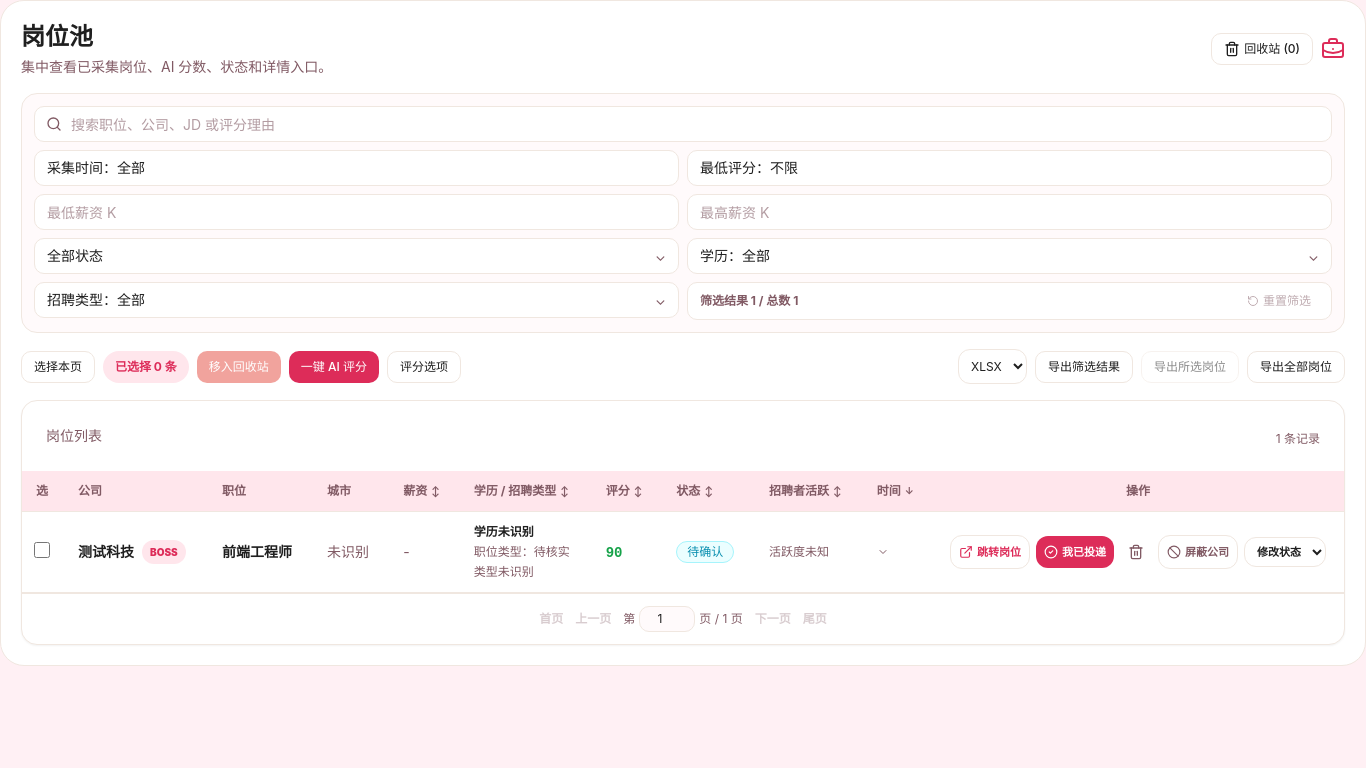
Test: 岗位列表屏蔽公司 › previews before confirmation and changes only the company list while preserving existing rules
Click the button with aria-label "屏蔽公司 测试科技" at (1198, 552), box [1158, 535, 1238, 569]
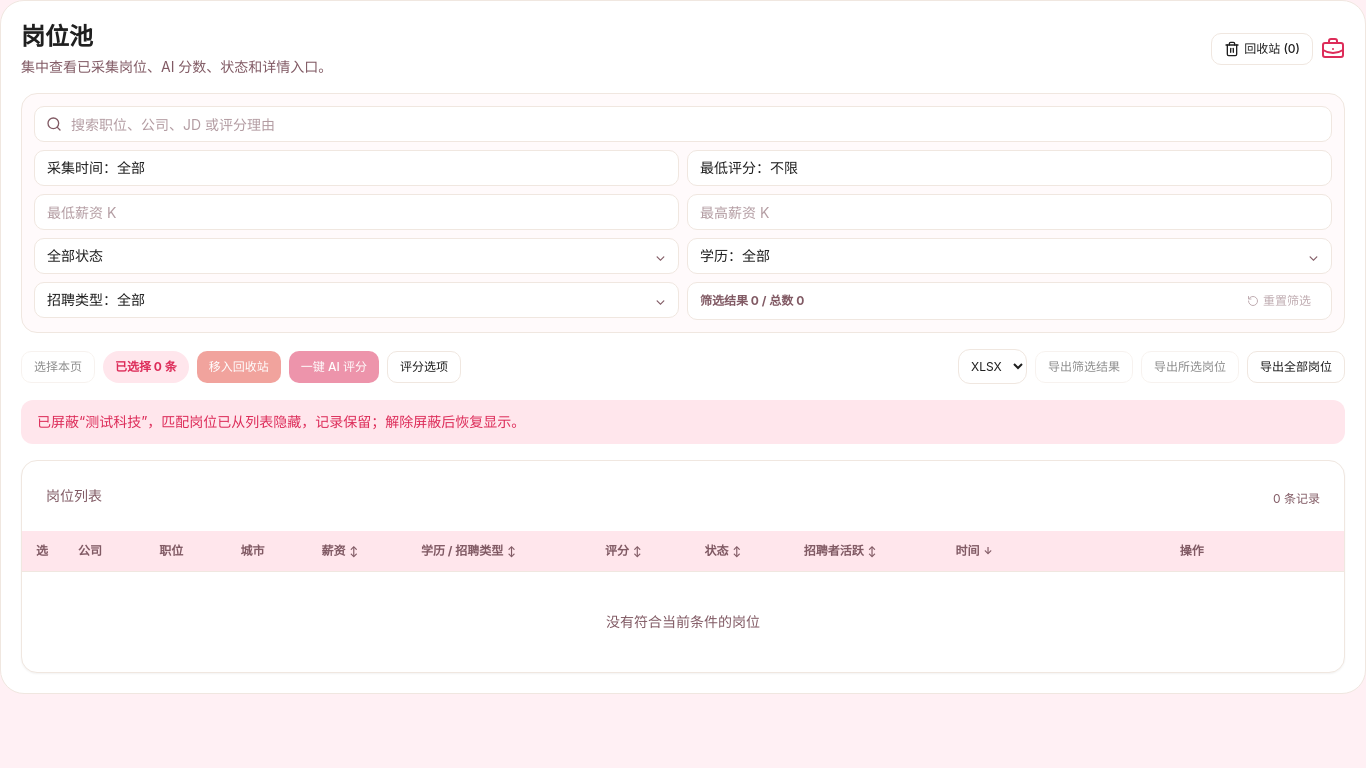
Expected: the text "已屏蔽“测试科技”，匹配岗位已从列表隐藏，记录保留；解除屏蔽后恢复显示。" is shown, [21, 400, 1345, 444]
Expected: the text "没有符合当前条件的岗位" is shown, [22, 572, 1344, 672]
